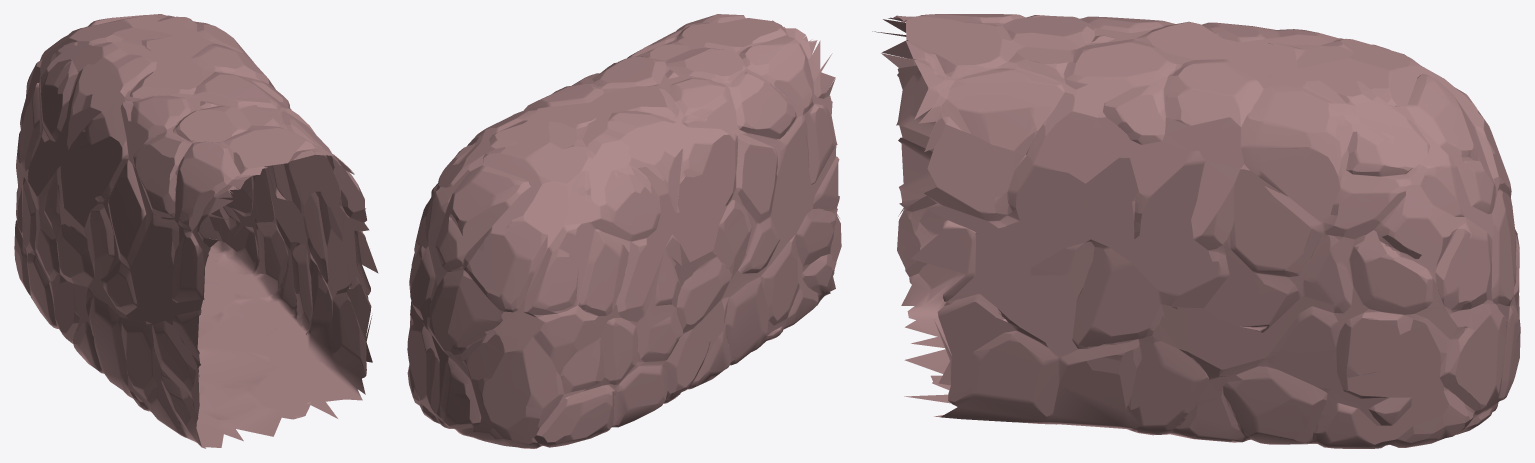
File: canyon.fbx_PolyShape__3__008LODs.fbx
3 renders of one model, left to right at view 1: azimuth 30°, elevation 25°; view 2: azimuth 150°, elevation 25°; view 3: azimuth 270°, elevation 25°, orthographic. The views are drawn at different scales.
Visible parts, largest first — view 1: PolyShape (3).008_LOD0; view 2: PolyShape (3).008_LOD0; view 3: PolyShape (3).008_LOD0.
Boxes of the visible parts, x1,y1,x2,y2 form: PolyShape (3).008_LOD0: (14,14,378,448); PolyShape (3).008_LOD0: (407,14,841,448); PolyShape (3).008_LOD0: (872,14,1520,448).
Size of what is drawn, in the model's own units: 3620 by 3974 by 6942.
